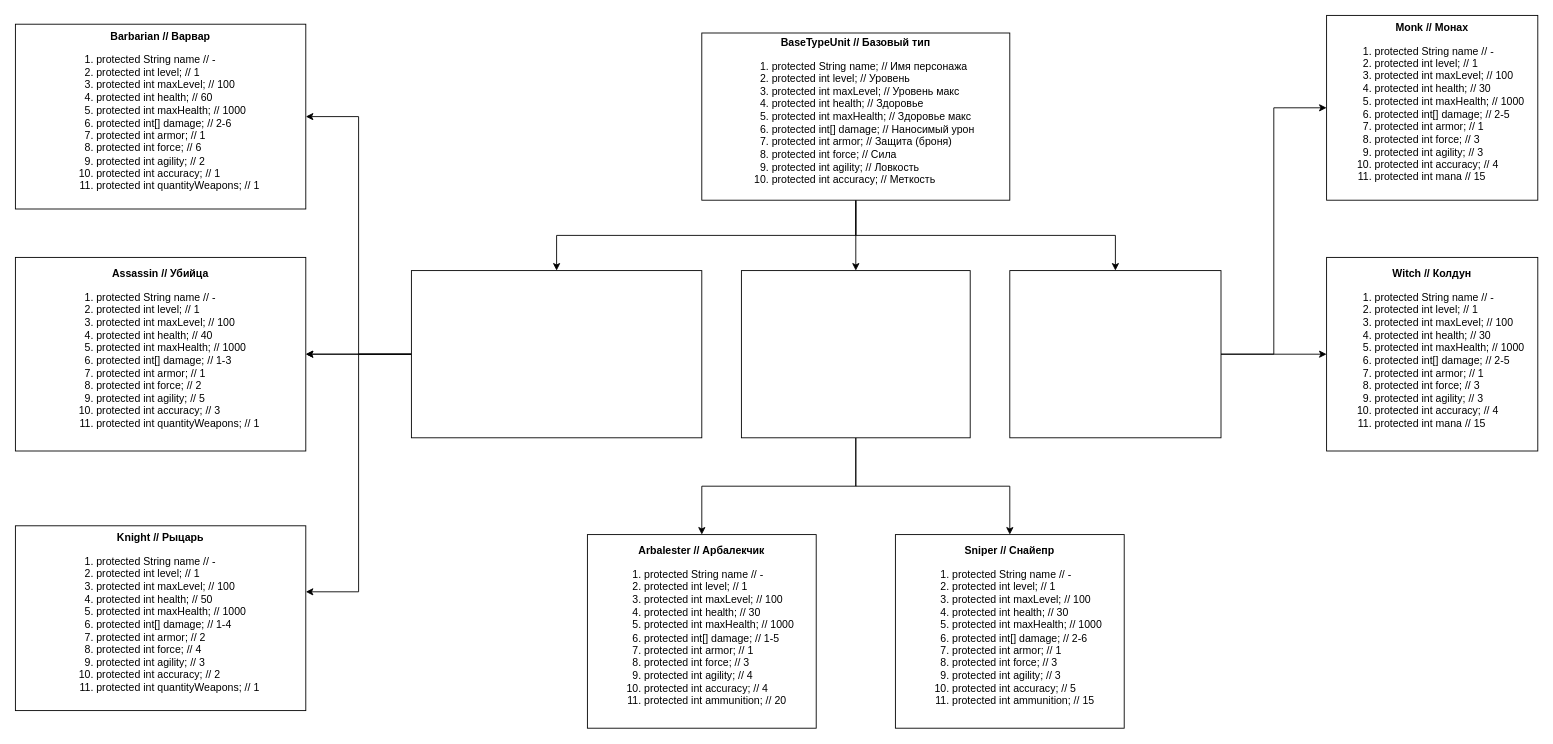
Some shapes in this 1553 by 744 pixel diagram are drawn without their labels. Here are the shapes that lost their labels. From the top down, the centre of each, then its label:
(x=556, y=354): Infantryman // Пехотинец protected int quantityWeapons; // Число орудий
(x=855, y=354): Shooter // Стрелок protected int ammunition; // Боеприпасы
(x=1115, y=354): Mage // Маг protected int mana; // Мана
